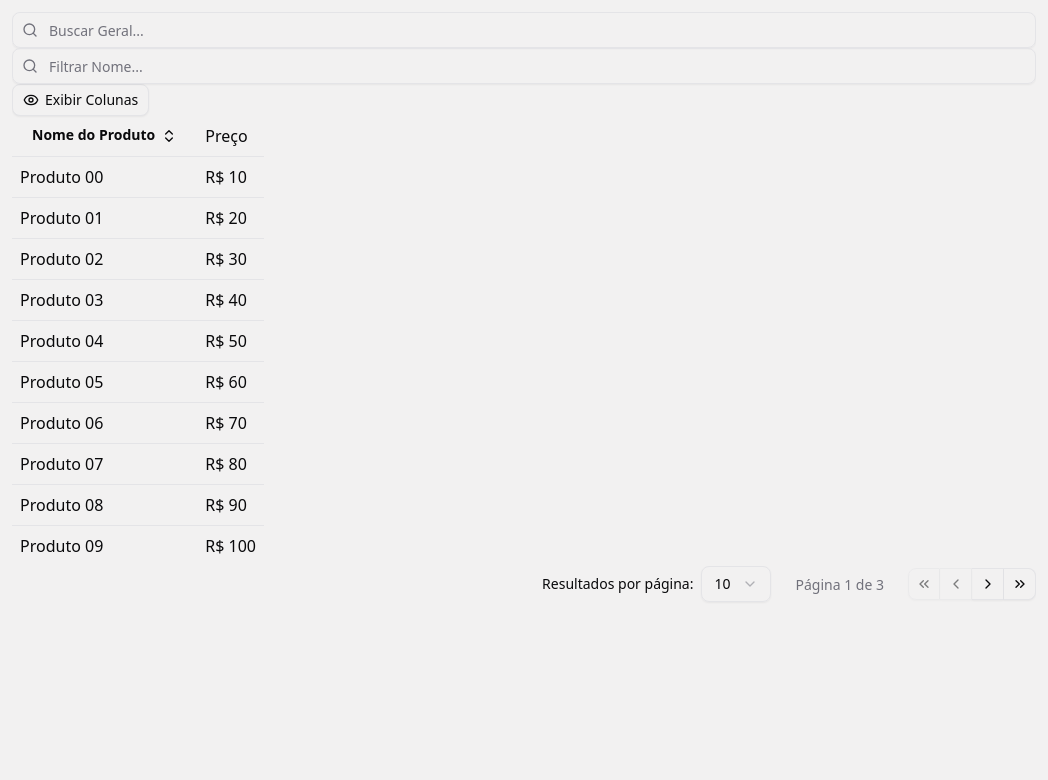
Test: DataTable Integration & Coverage › should sort Ascending and Descending
This screenshot has width=1048, height=780.
What coordinates should you click on to do the following:
click the button "Nome do Produto"
I would click on:
 (105, 136)
Its box is [20,120,189,152].
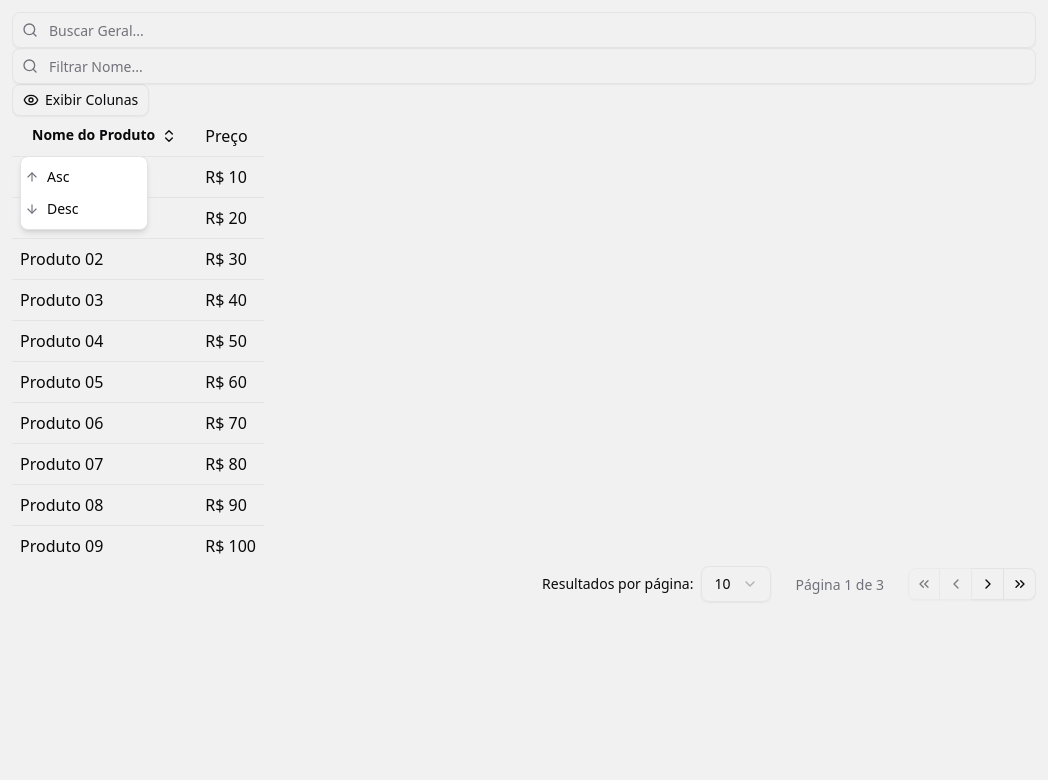
What coordinates should you click on to do the following:
click the menu item "Desc"
I would click on:
 (52, 208)
Its box is [25,199,78,218].
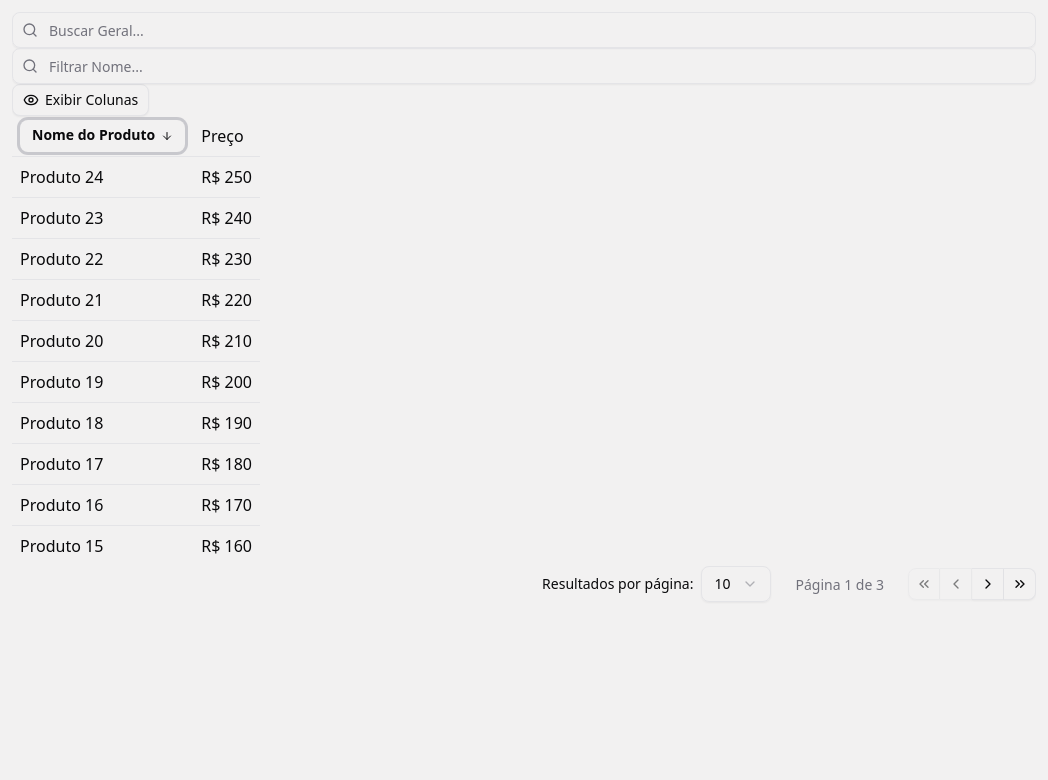
Now the row "Produto 24 R$ 250" is shown, box [12,156,260,197]
What coordinates should you click on to do the following:
click the button "Nome do Produto"
I would click on:
 (103, 136)
Its box is [20,120,185,152].
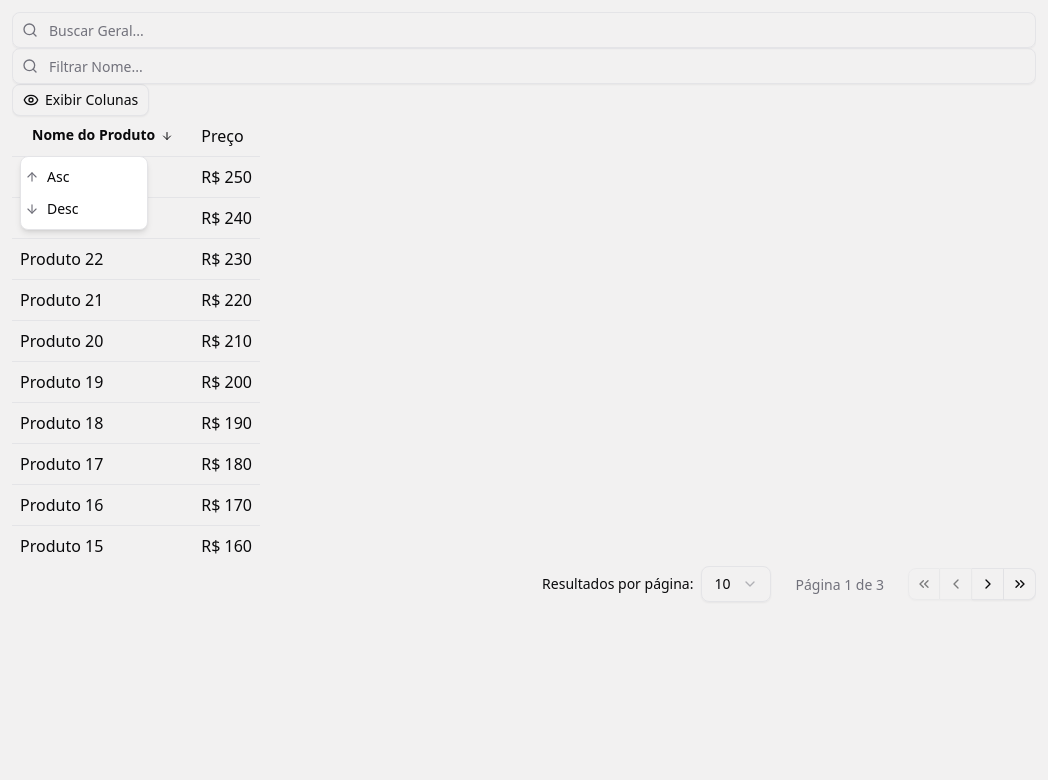
What coordinates should you click on to do the following:
click the menu item "Asc"
I would click on:
 (47, 176)
Its box is [25,167,69,186].
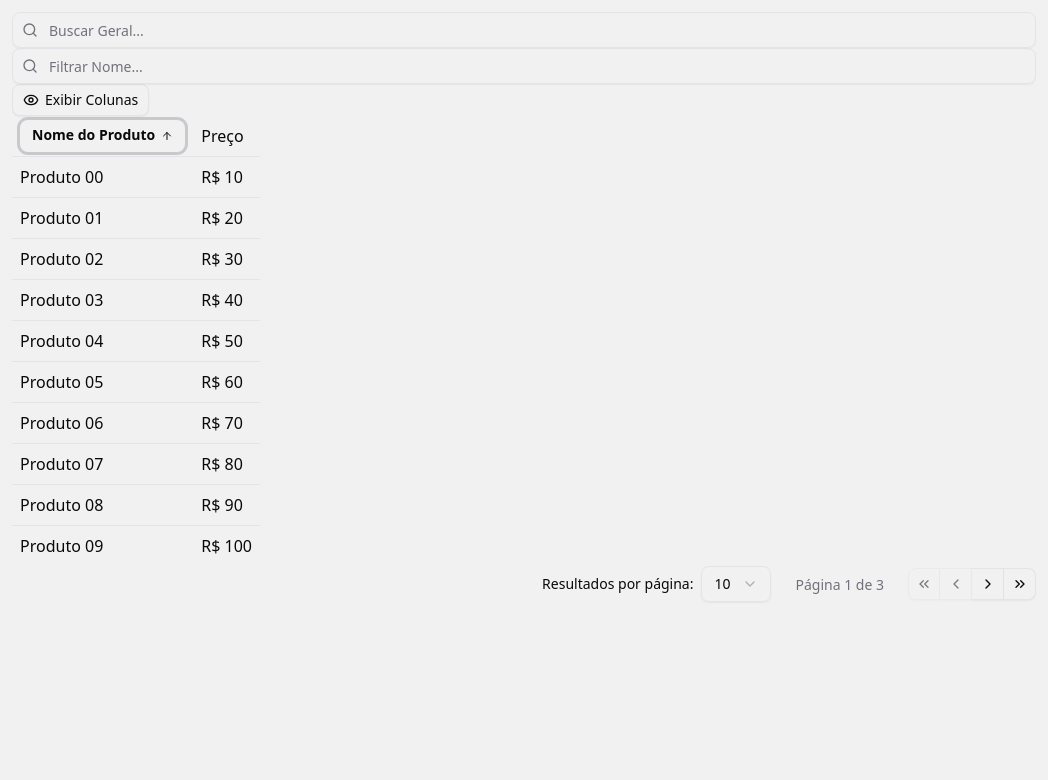
Now the row "Produto 00 R$ 10" is shown, box [12,156,260,197]
